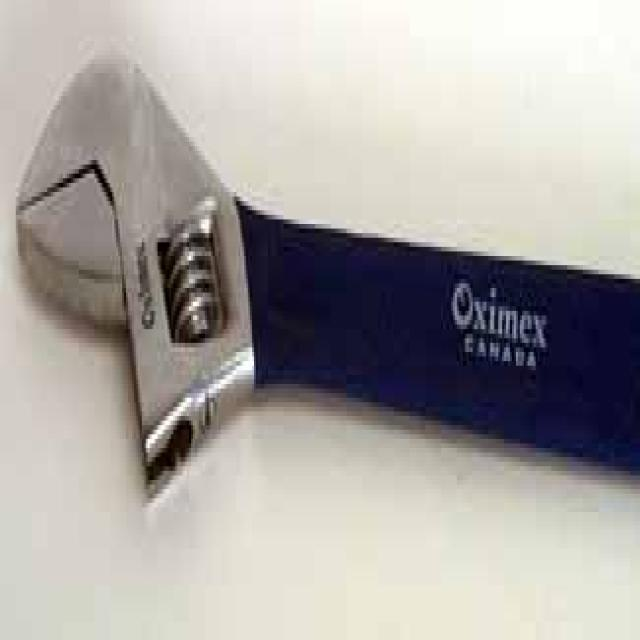wrench: (14, 17, 567, 551)
